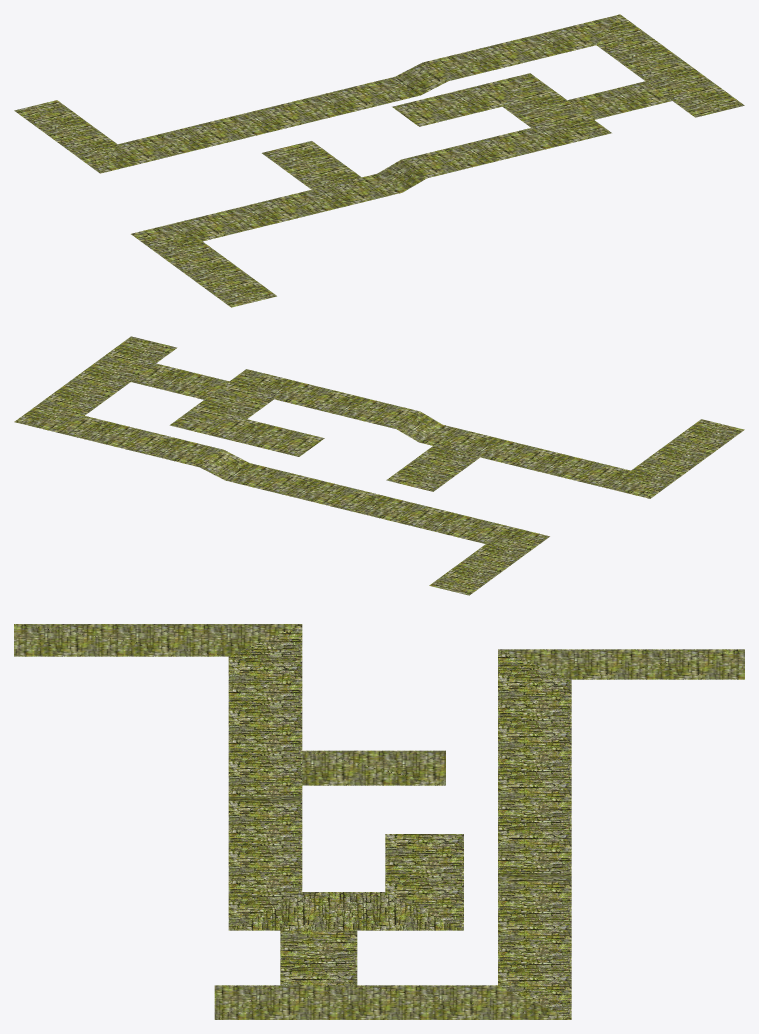
The model's file is Under_City_Hallway_1_wall02.FBX.
3 renders of one model, top to bottom at view 1: azimuth 30°, elevation 25°; view 2: azimuth 150°, elevation 25°; view 3: azimuth 270°, elevation 25°, orthographic. The views are drawn at different scales.
Parts seen in each view (by area): view 1: Object007; view 2: Object007; view 3: Object007.
Boxes of the visible parts, x1=… form: Object007: x1=14, y1=14, x2=744, y2=307; Object007: x1=14, y1=336, x2=744, y2=595; Object007: x1=14, y1=624, x2=744, y2=1019.
Size of the model in its own units: 9178 by 125 by 6953.
Materials: 1 (1 with a texture image).
